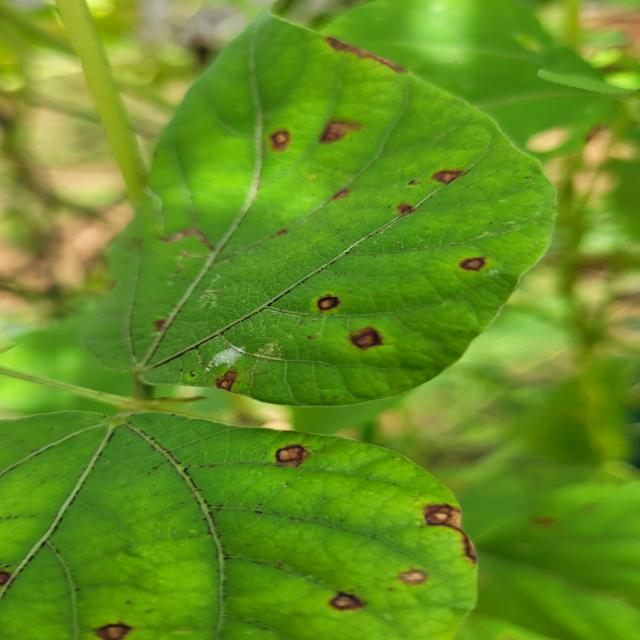Dolicos bean_cercospora leaf spot: (106, 13, 544, 416), (0, 411, 475, 640)
